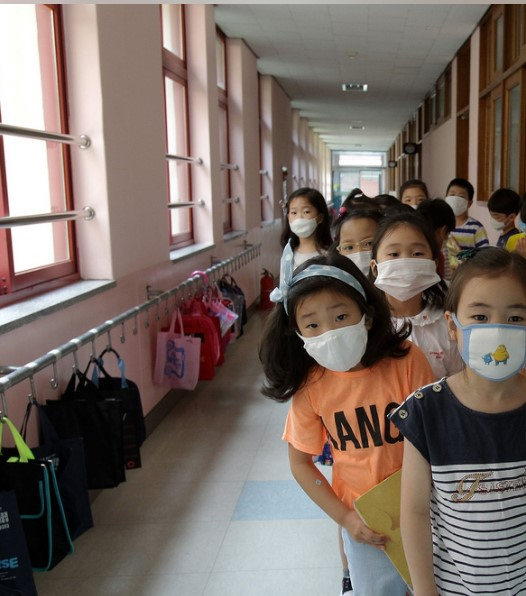face_with_mask: (285, 261, 376, 376), (453, 254, 525, 387), (367, 218, 443, 305), (329, 206, 380, 277), (284, 192, 327, 241), (439, 177, 478, 221)
